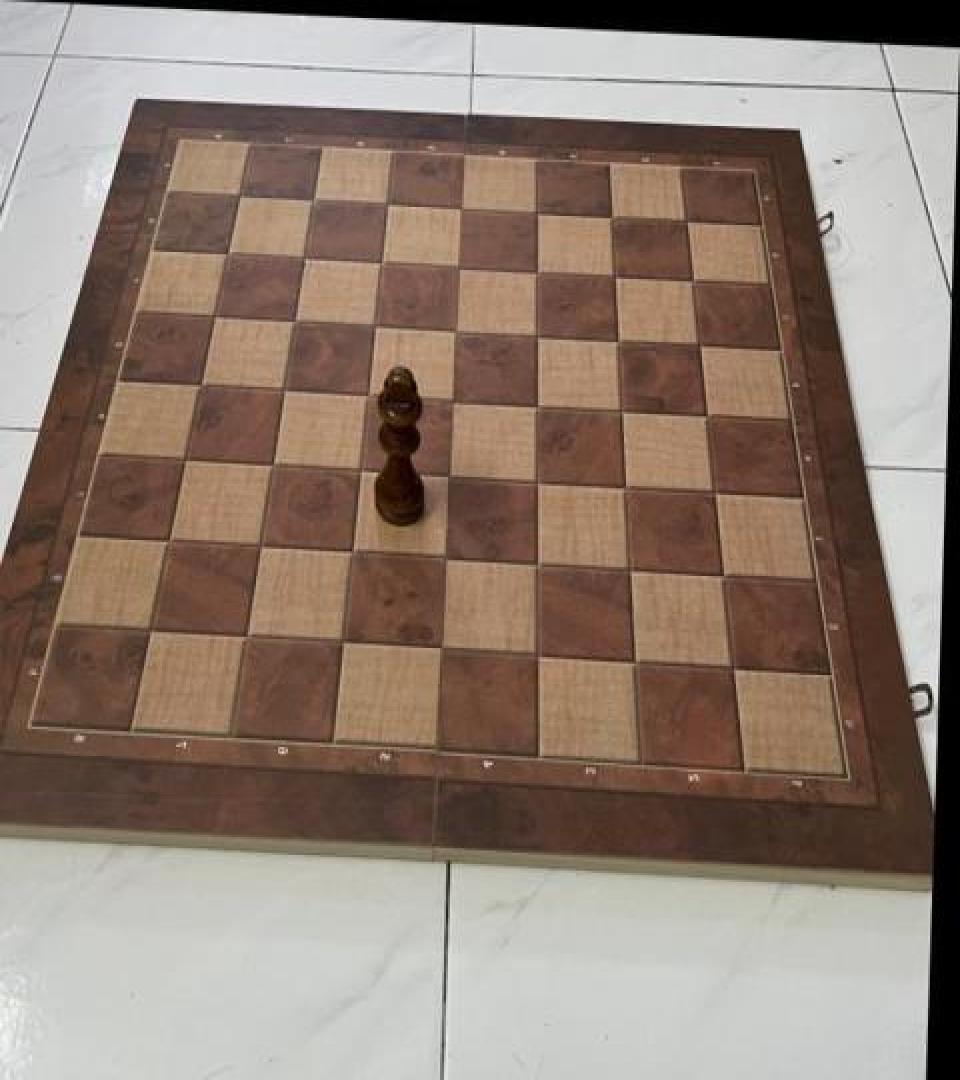xcorner: (224, 174, 258, 213), (371, 182, 405, 221), (601, 317, 635, 356), (169, 436, 203, 475), (608, 462, 642, 501), (715, 642, 749, 681), (297, 179, 331, 217), (445, 187, 479, 225), (520, 190, 554, 228), (595, 195, 629, 233), (669, 198, 703, 236), (212, 233, 246, 271), (288, 236, 322, 274), (365, 241, 399, 279), (442, 244, 476, 282), (520, 249, 554, 287), (598, 253, 632, 291), (675, 258, 709, 296), (199, 295, 233, 333), (278, 300, 312, 338), (359, 304, 393, 342), (439, 308, 473, 346), (520, 313, 554, 351), (682, 321, 716, 359), (184, 362, 218, 400), (268, 367, 302, 405), (351, 372, 385, 410), (435, 377, 469, 415), (520, 382, 554, 420), (604, 386, 638, 424), (689, 390, 723, 428), (256, 442, 290, 480), (344, 447, 378, 485), (431, 452, 465, 490), (520, 457, 554, 495), (697, 467, 731, 505), (152, 518, 186, 556), (243, 523, 277, 561), (335, 529, 369, 567), (427, 534, 461, 572), (519, 540, 553, 578), (612, 546, 646, 584), (705, 552, 739, 590), (134, 608, 168, 646), (229, 613, 263, 651), (326, 619, 360, 657), (422, 624, 456, 662), (519, 631, 553, 669), (617, 637, 651, 675)
